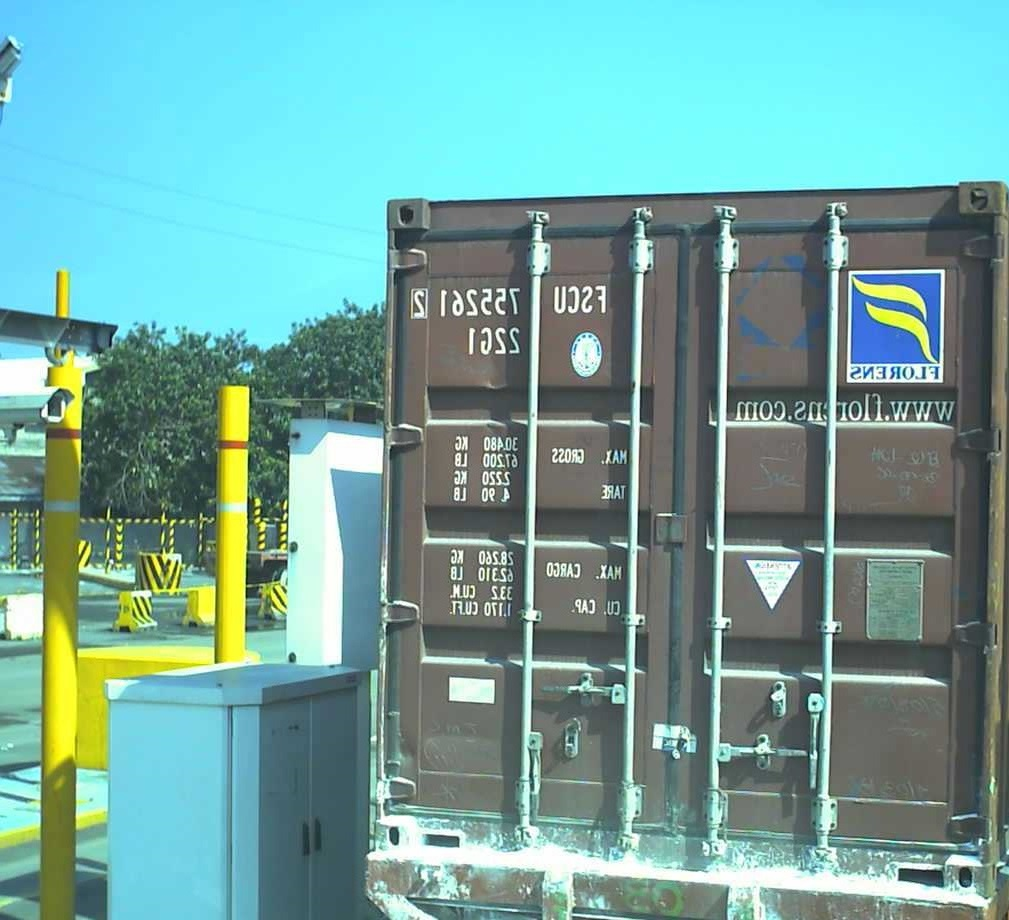container_door: (375, 190, 998, 906)
